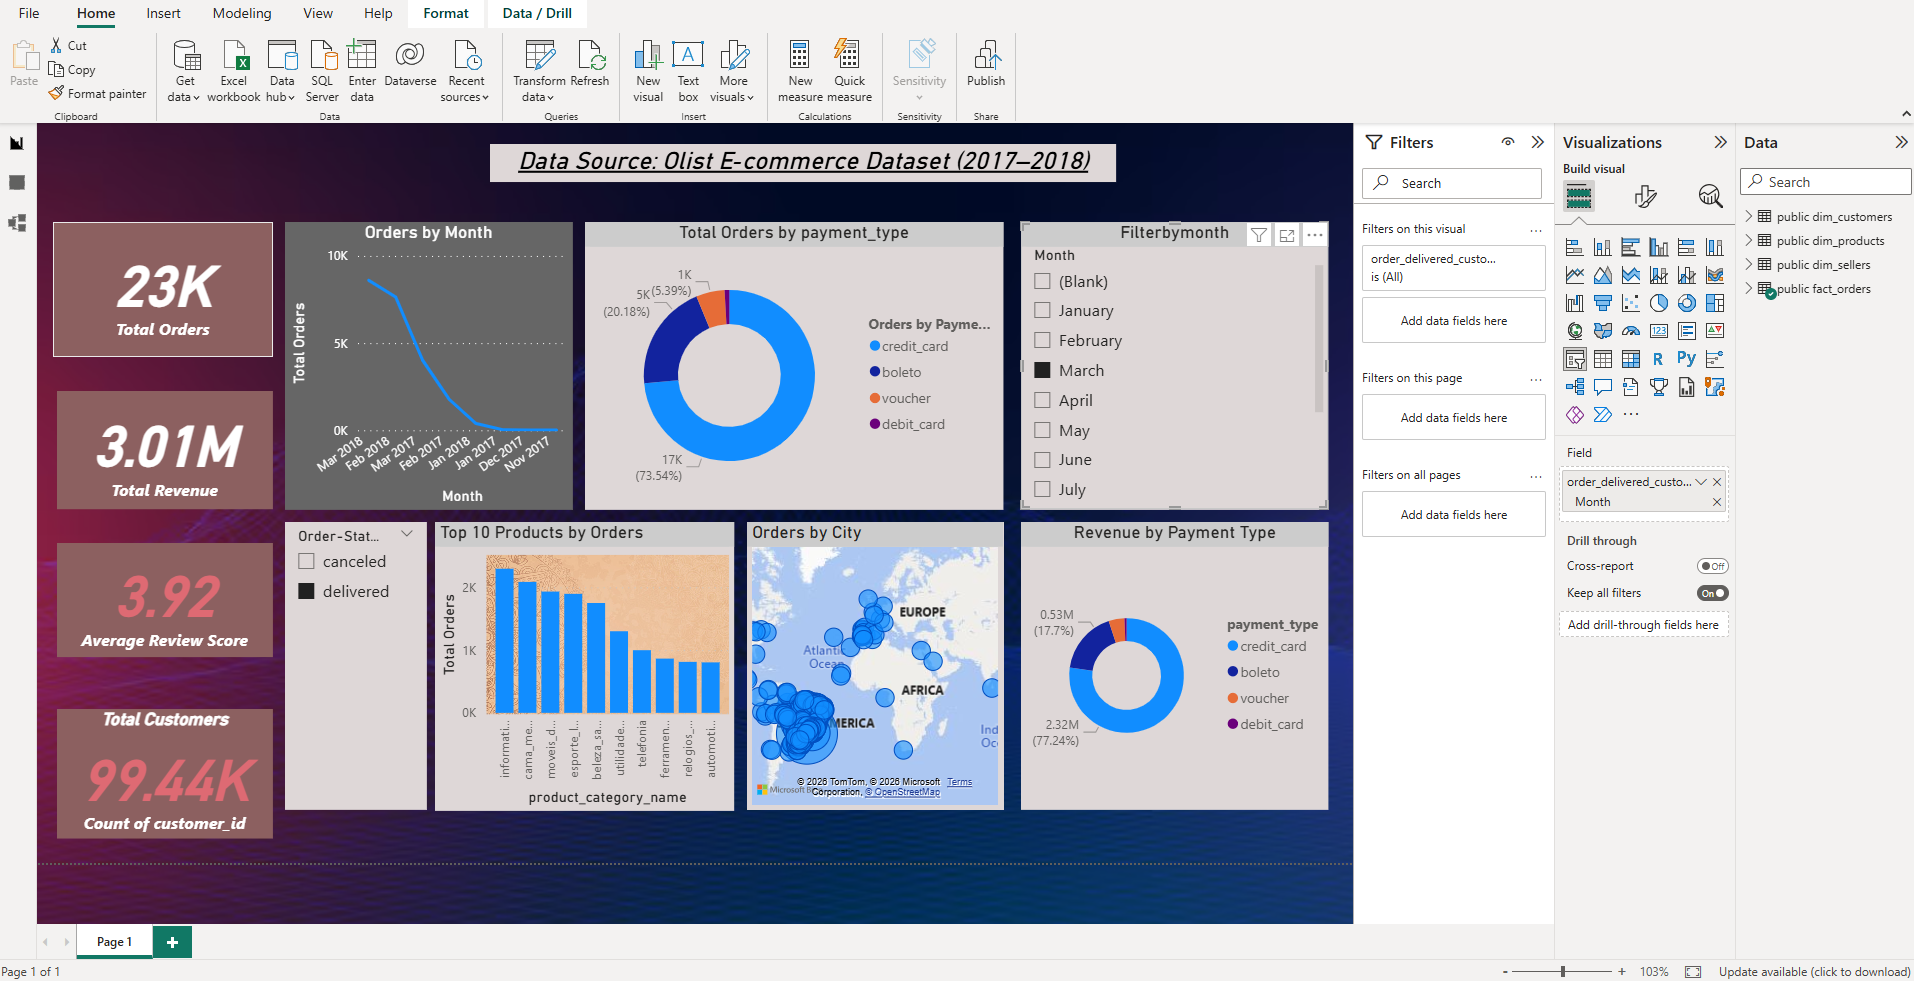

The page's visual inventory and layout, read from the dashboard file:
{"tool":"powerbi","page":{"name":"Page 1","canvas":[1280,720],"ordinal":0},"visuals":[{"type":"card","fields":{"Values":["public dim_customers.Total Orders"]},"box":[15.6,96,213.9,131.4],"z":0},{"type":"card","fields":{"Values":["public dim_customers.Total Revenue"]},"box":[19.8,260.8,209.7,114.8],"z":1000},{"type":"card","fields":{"Values":["public fact_orders.Average Review Score"]},"box":[19.8,408.9,209.7,110.6],"z":2000},{"type":"lineChart","title":"Orders by Month","fields":{"Y":["public dim_customers.Total Orders"],"Category":["public fact_orders.Order Month"]},"box":[253.5,96,279.6,279.6],"z":3000},{"type":"donutChart","fields":{"Category":["public fact_orders.payment_type"],"Y":["public dim_customers.Total Orders"]},"box":[541.4,96,406.8,279.6],"z":4000},{"type":"slicer","fields":{"Values":["public fact_orders.order_status"]},"box":[241,388.1,137.7,279.6],"z":5000},{"type":"columnChart","title":"Top 10 Products by Orders","fields":{"Category":["public dim_products.product_category_name"],"Y":["public dim_customers.Total Orders"]},"box":[387,388.1,291.1,280.6],"z":6000},{"type":"card","title":"Total Customers","fields":{"Values":["Count(public dim_customers.customer_id)"]},"box":[19.8,569.6,209.7,126.2],"z":7000},{"type":"map","title":"Orders by City","fields":{"Category":["public dim_customers.customer_city"],"Size":["public dim_customers.Total Orders"]},"box":[678.1,388.1,278.5,281.7],"z":8000},{"type":"slicer","title":"Filterbymonth","fields":{"Values":["public fact_orders.order_delivered_customer_date.Variation.Date Hierarchy.Month"]},"box":[956.6,96,299.4,279.6],"z":9000},{"type":"donutChart","title":"Revenue by Payment Type","fields":{"Y":["public dim_customers.Total Revenue"],"Category":["public fact_orders.payment_type"]},"box":[956.6,388.1,299.4,281.7],"z":10000},{"type":"textbox","title":"Data Source: Olist E‑commerce Dataset (2017–2018)","box":[440.2,20.9,609.2,36.5],"z":11000}]}

Visuals, with their boxes on the page's 1280x720 design canvas (x1, y1, x2, y2). These are canvas units, not pixel positions in the 1914x981 screenshot, which may show the page scaled, cropped or inside an application window:
card - public dim_customers.Total Orders: x1=16, y1=96, x2=230, y2=227
card - public dim_customers.Total Revenue: x1=20, y1=261, x2=230, y2=376
card - public fact_orders.Average Review Score: x1=20, y1=409, x2=230, y2=520
"Orders by Month" lineChart: x1=254, y1=96, x2=533, y2=376
donutChart - public fact_orders.payment_type x public dim_customers.Total Orders: x1=541, y1=96, x2=948, y2=376
slicer - public fact_orders.order_status: x1=241, y1=388, x2=379, y2=668
"Top 10 Products by Orders" columnChart: x1=387, y1=388, x2=678, y2=669
"Total Customers" card: x1=20, y1=570, x2=230, y2=696
"Orders by City" map: x1=678, y1=388, x2=957, y2=670
"Filterbymonth" slicer: x1=957, y1=96, x2=1256, y2=376
"Revenue by Payment Type" donutChart: x1=957, y1=388, x2=1256, y2=670
"Data Source: Olist E‑commerce Dataset (2017–2018)" textbox: x1=440, y1=21, x2=1049, y2=57
